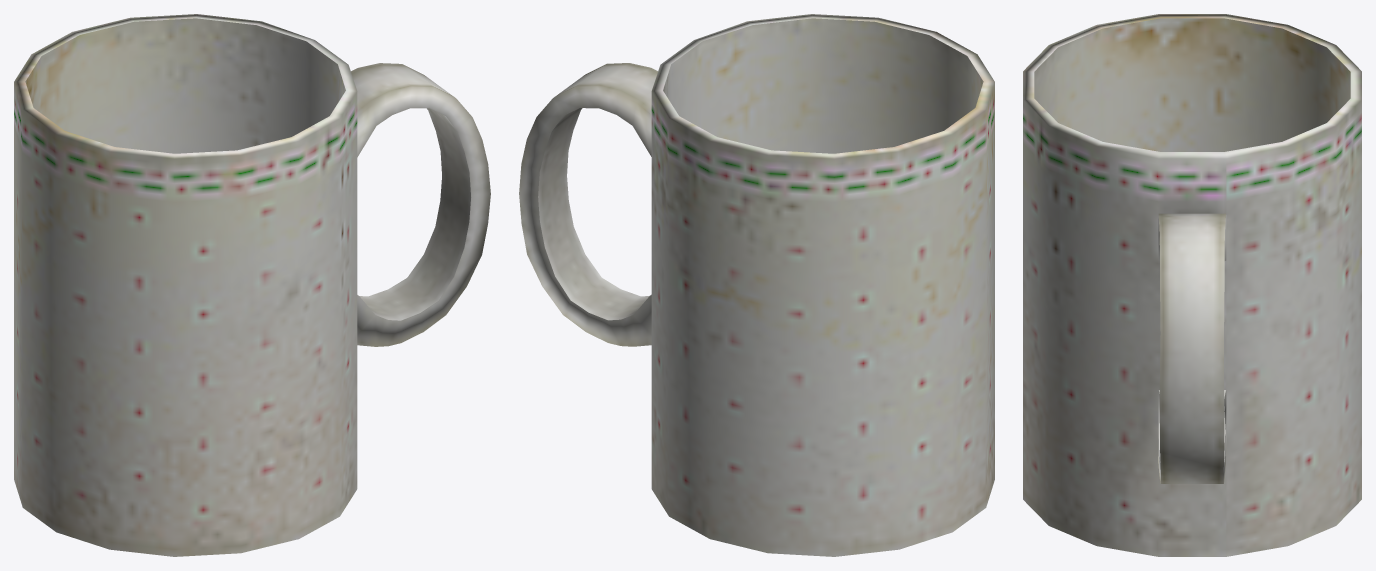
Rendered from 051_Cup.fbx.
3 renders of one model, left to right at view 1: azimuth 30°, elevation 25°; view 2: azimuth 150°, elevation 25°; view 3: azimuth 270°, elevation 25°, orthographic.
Visible parts, largest first — view 1: LOD_1_Group_0_Sub_1__sm36_051_Cup02A_A_Mat; view 2: LOD_1_Group_0_Sub_1__sm36_051_Cup02A_A_Mat; view 3: LOD_1_Group_0_Sub_1__sm36_051_Cup02A_A_Mat.
Part boxes in pixels (<box>): LOD_1_Group_0_Sub_1__sm36_051_Cup02A_A_Mat: <box>14,14,490,556</box>; LOD_1_Group_0_Sub_1__sm36_051_Cup02A_A_Mat: <box>519,14,994,556</box>; LOD_1_Group_0_Sub_1__sm36_051_Cup02A_A_Mat: <box>1023,14,1361,556</box>.
Size of the model in its own units: 0.1229 by 0.1075 by 0.0826.
